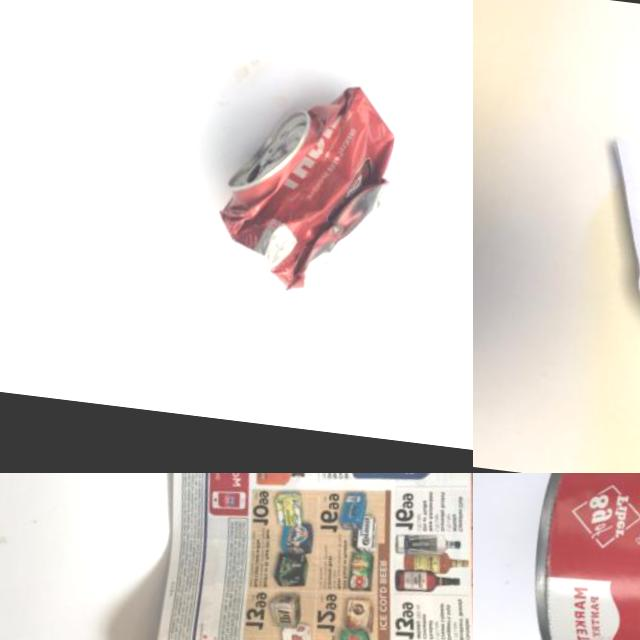lata: (208, 70, 404, 304), (525, 473, 640, 640)
papel: (121, 473, 473, 640), (583, 32, 640, 459)
